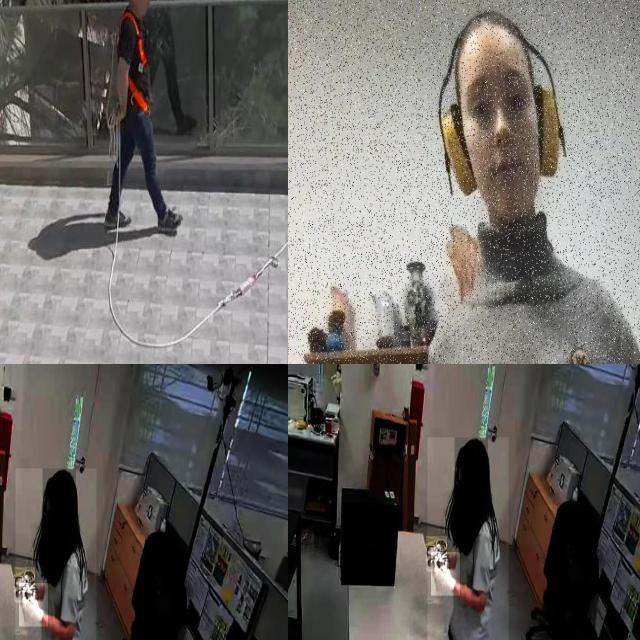Ear-protection: (425, 0, 571, 234)
Harness: (108, 230, 288, 350), (116, 12, 156, 117)
hand_glove: (19, 583, 48, 627), (431, 552, 460, 596), (14, 567, 35, 603), (426, 536, 447, 572)
head_nohelmet: (42, 468, 76, 499), (454, 438, 488, 468)
person: (427, 437, 508, 640), (15, 468, 96, 640)
